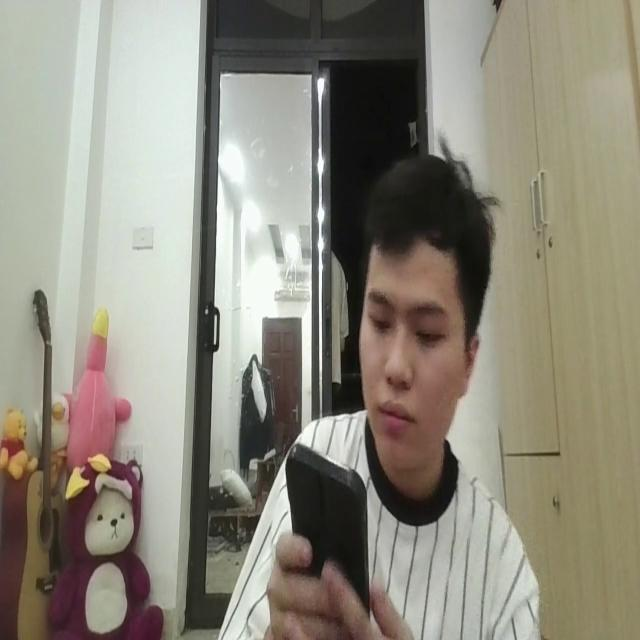phone: (285, 436, 374, 640)
student: (200, 150, 539, 640)
